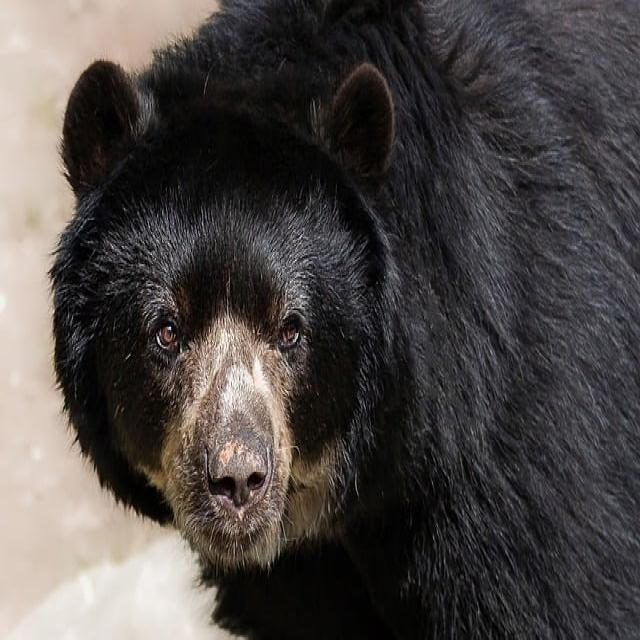Carnivorous: (48, 0, 640, 640)
